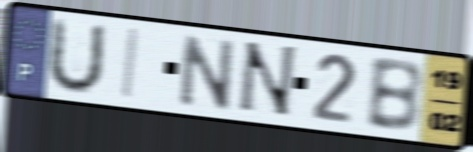2: (309, 52, 359, 127)
B: (363, 57, 425, 135)
I: (119, 25, 144, 103)
N: (232, 39, 300, 121), (178, 31, 237, 112)
U: (44, 15, 109, 97)
